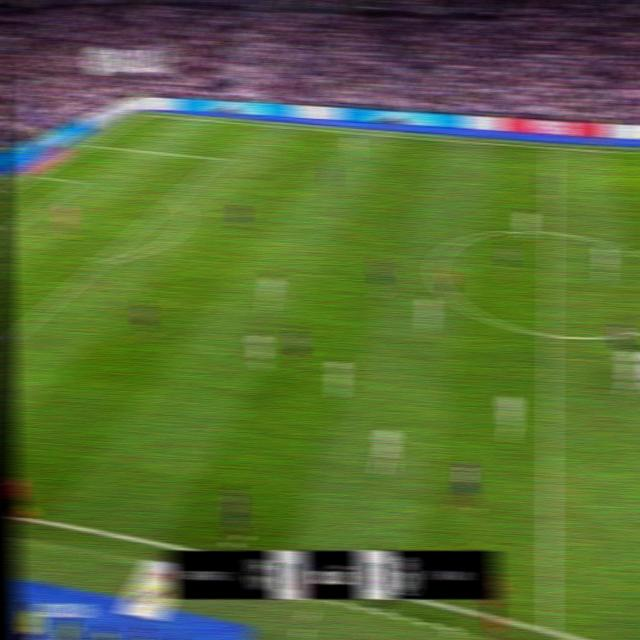bigarea_top_inner: (213, 151, 228, 165)
bigarea_top_outter: (85, 138, 98, 149)
bottom_arc_area_intersection: (94, 252, 111, 269)
corner: (137, 110, 150, 118)
halfcircle_bottom: (540, 322, 560, 347)
halfcircle_top: (542, 220, 561, 243)
midline_bottom_intersection: (538, 610, 562, 640)
midline_top_intersection: (545, 141, 559, 154)
smallarea_top_inner: (75, 175, 89, 187)
smallarea_top_outter: (30, 169, 43, 181)
top_arc_area_intersection: (168, 191, 182, 204)
